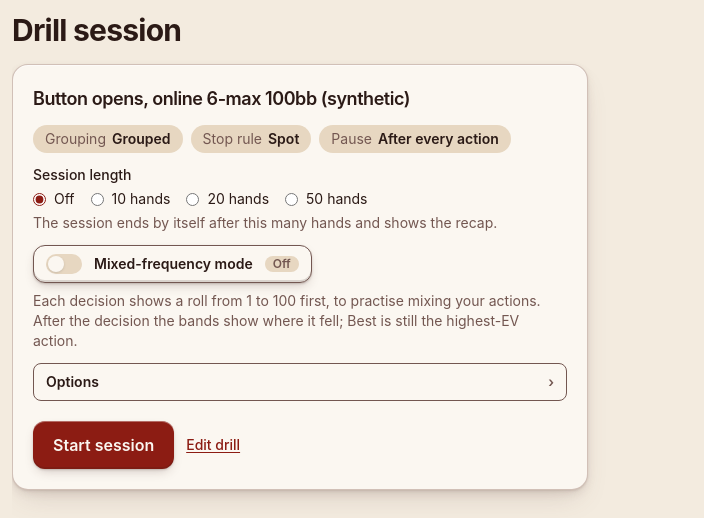
R3.13 decision requests › R3.13 a session that already ended shows its recap, fetched through POST end
Expected: the heading "Button opens, online 6-max 100bb (synthetic)" is shown, [33, 85, 410, 113]
Step 1. Click the button "Start session" → (104, 445), box [33, 421, 174, 469]
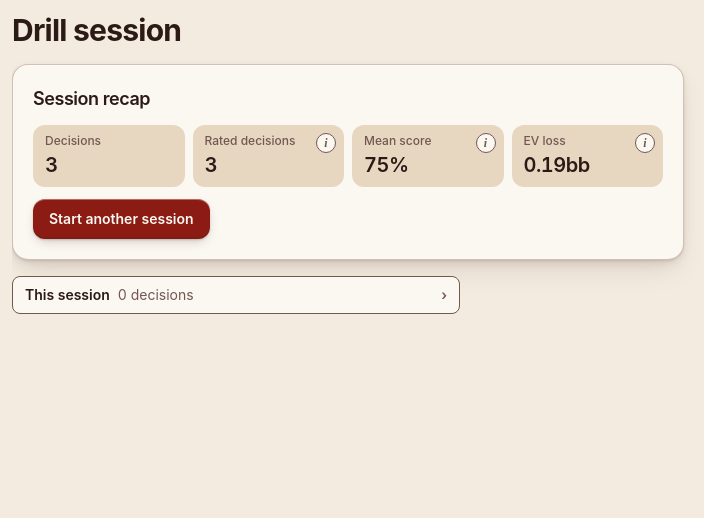
Expected: the heading "Session recap" is shown, [33, 85, 150, 113]
